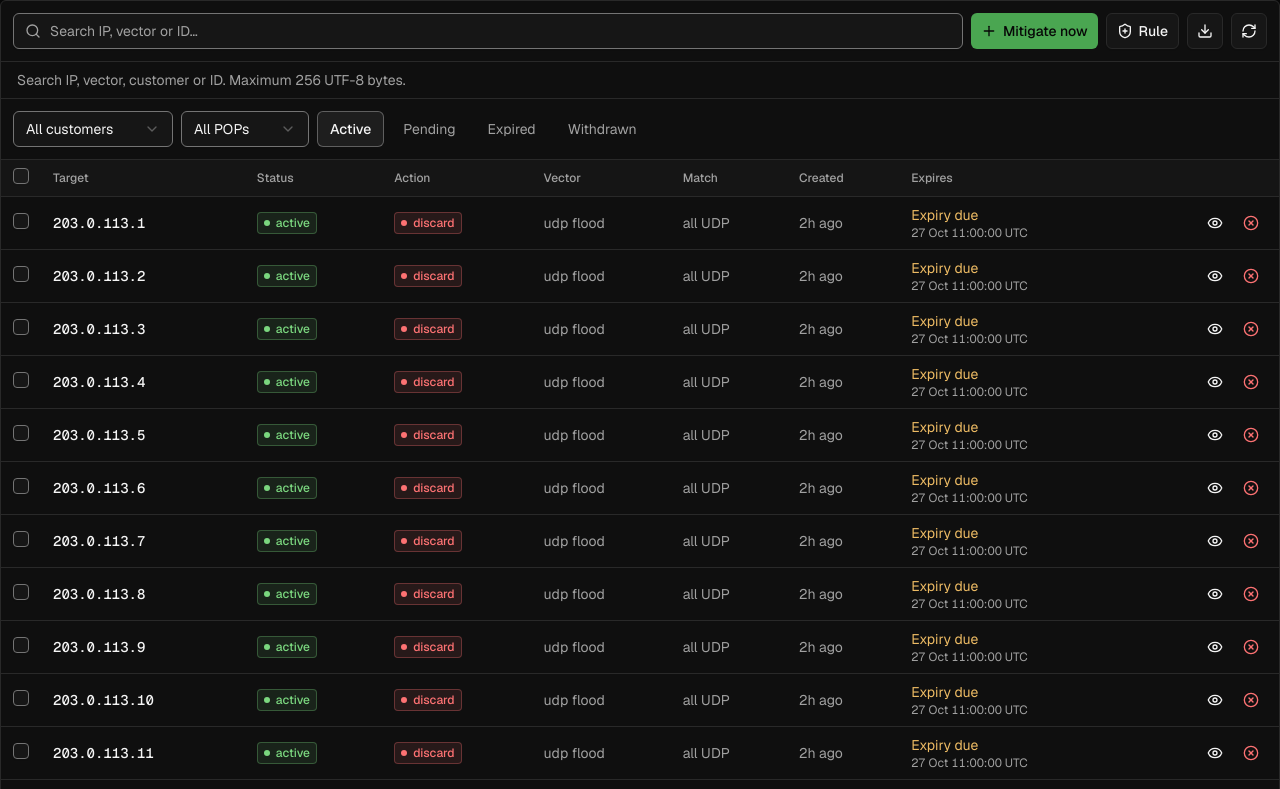
Test: complete mitigation navigation › clears hidden selections on navigation and backs up when polling empties the last page
Step 1. Click the checkbox named "Select mitigation 203.0.113.1" → (21, 220), box [13,212,29,228]
(page scrolled)
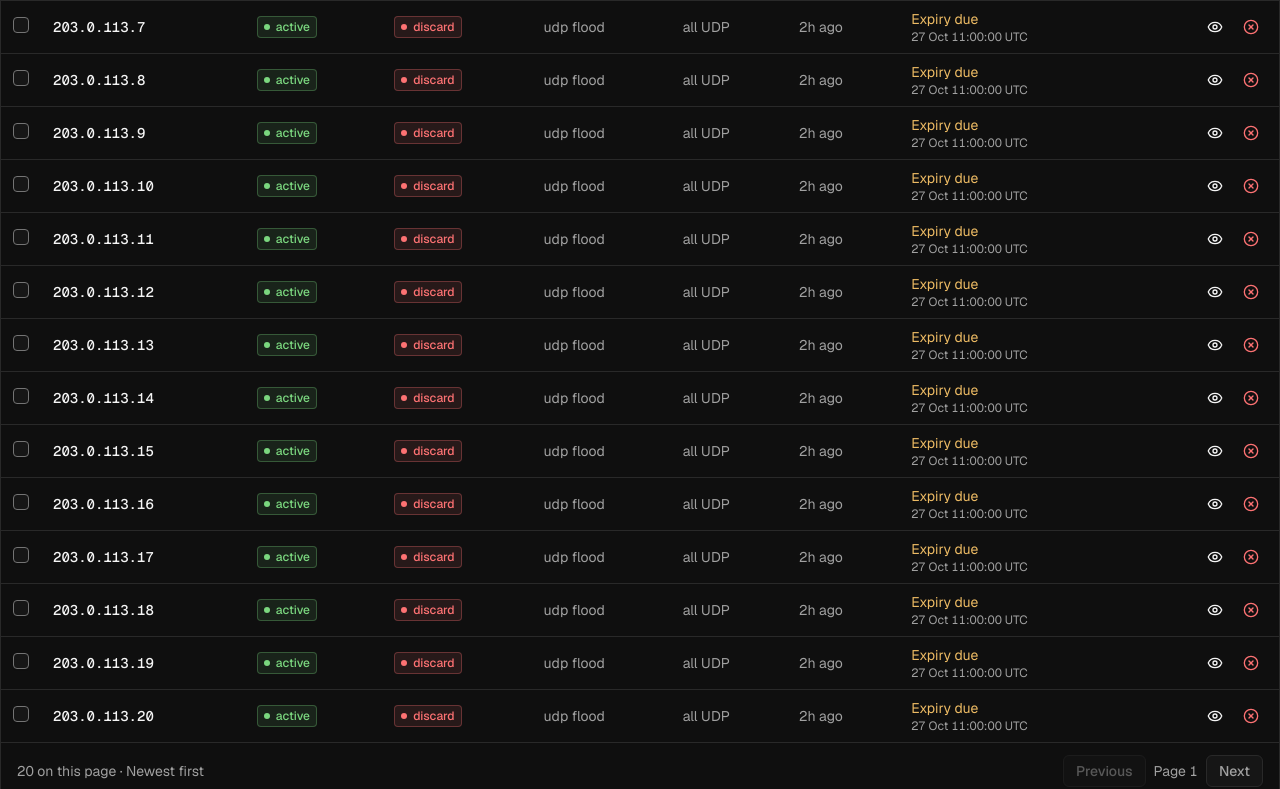
Step 2. Click the button "Next" → (1234, 770), box [1206,754,1263,786]
Wait 10020 ms
(page scrolled)
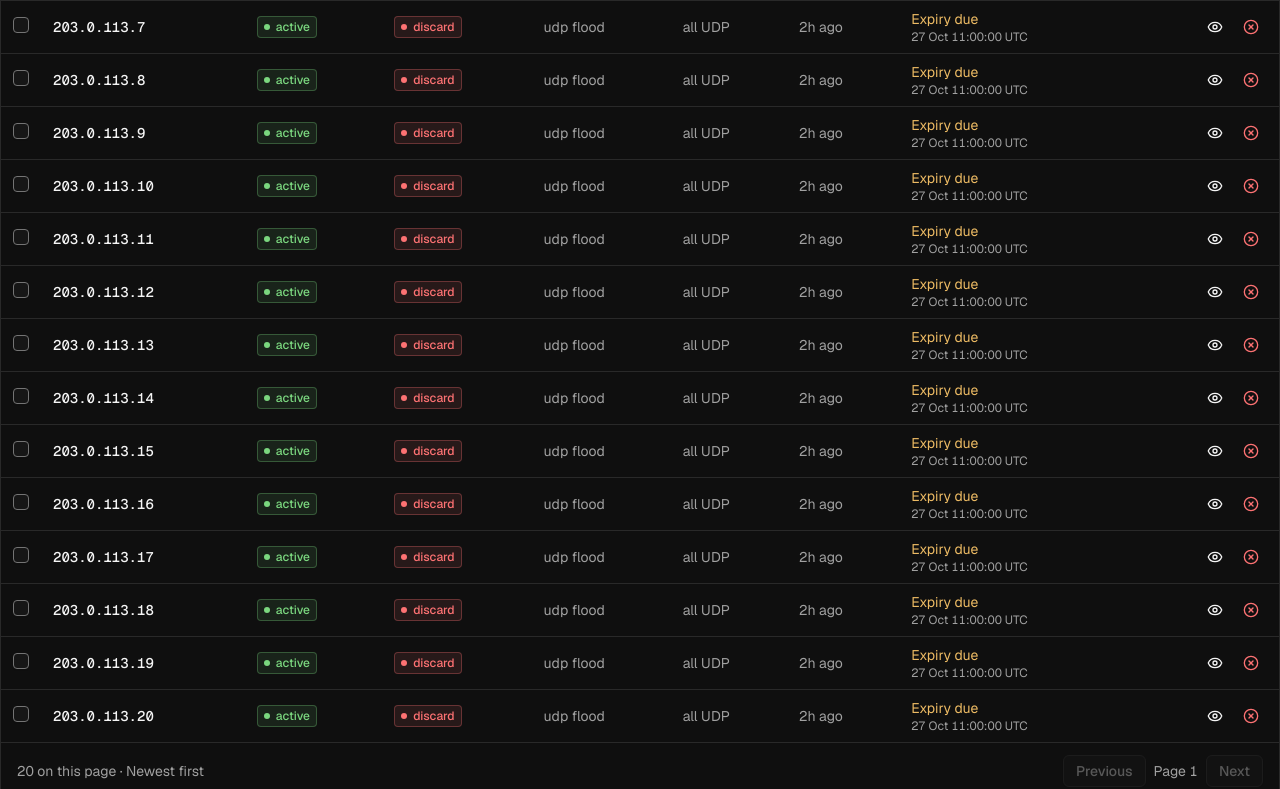
Expected: the text "Page 1" is shown, [1154,760,1198,780]
Expected: the button "Next" is disabled, [1206,754,1263,786]
